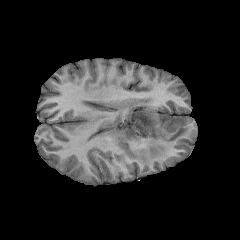glioma: (105, 97, 196, 162)
